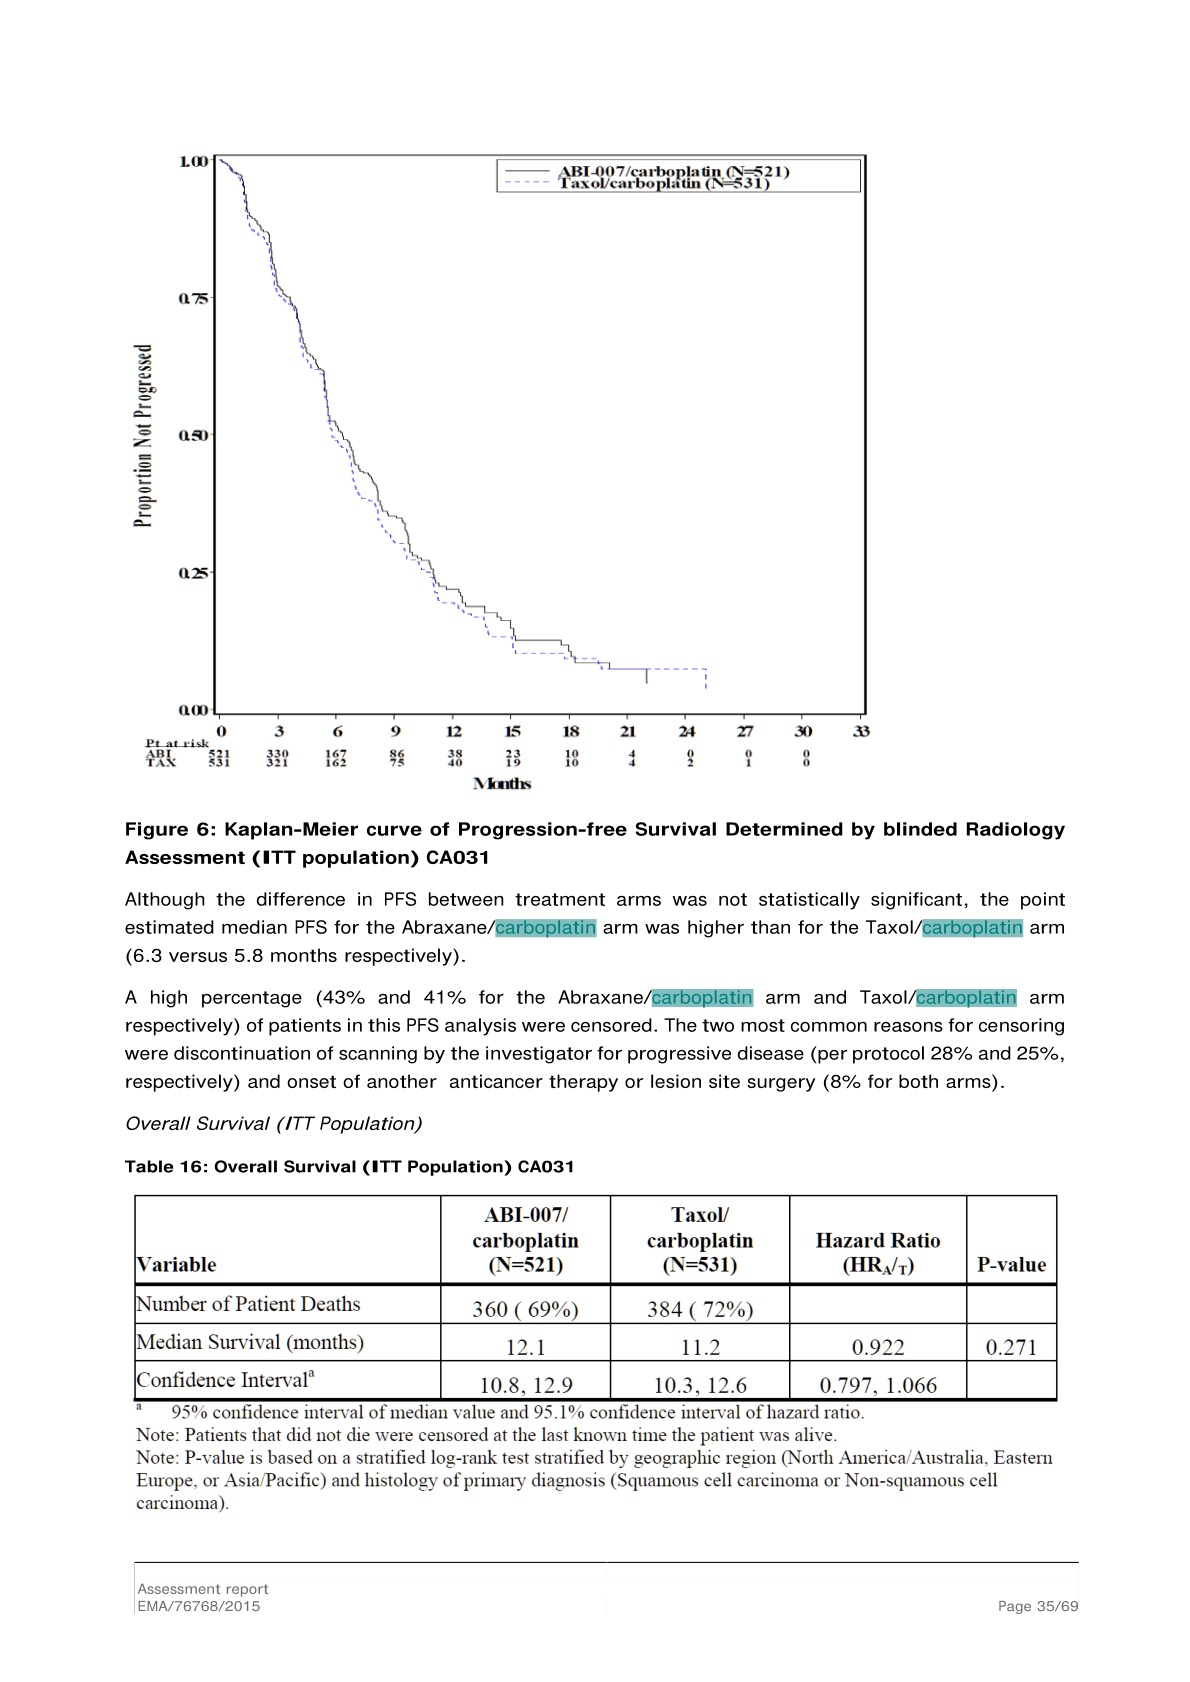full_lined: (134, 1193, 1059, 1403)
nolines: (146, 747, 811, 770)
